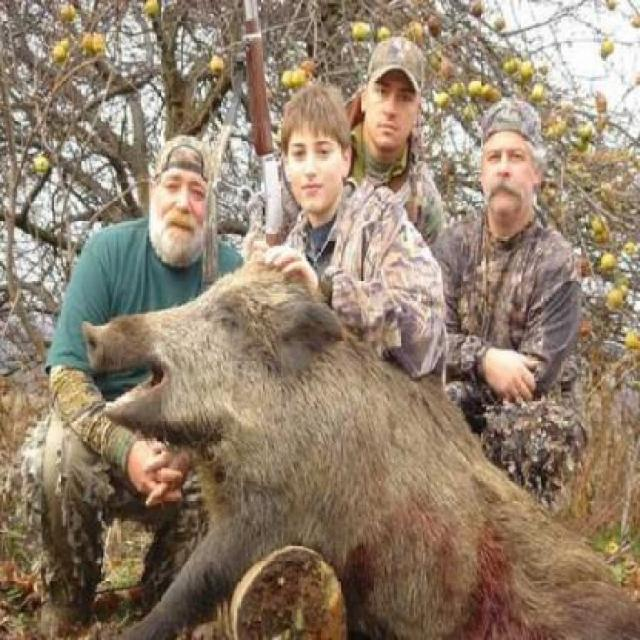pig: (51, 209, 638, 639)
